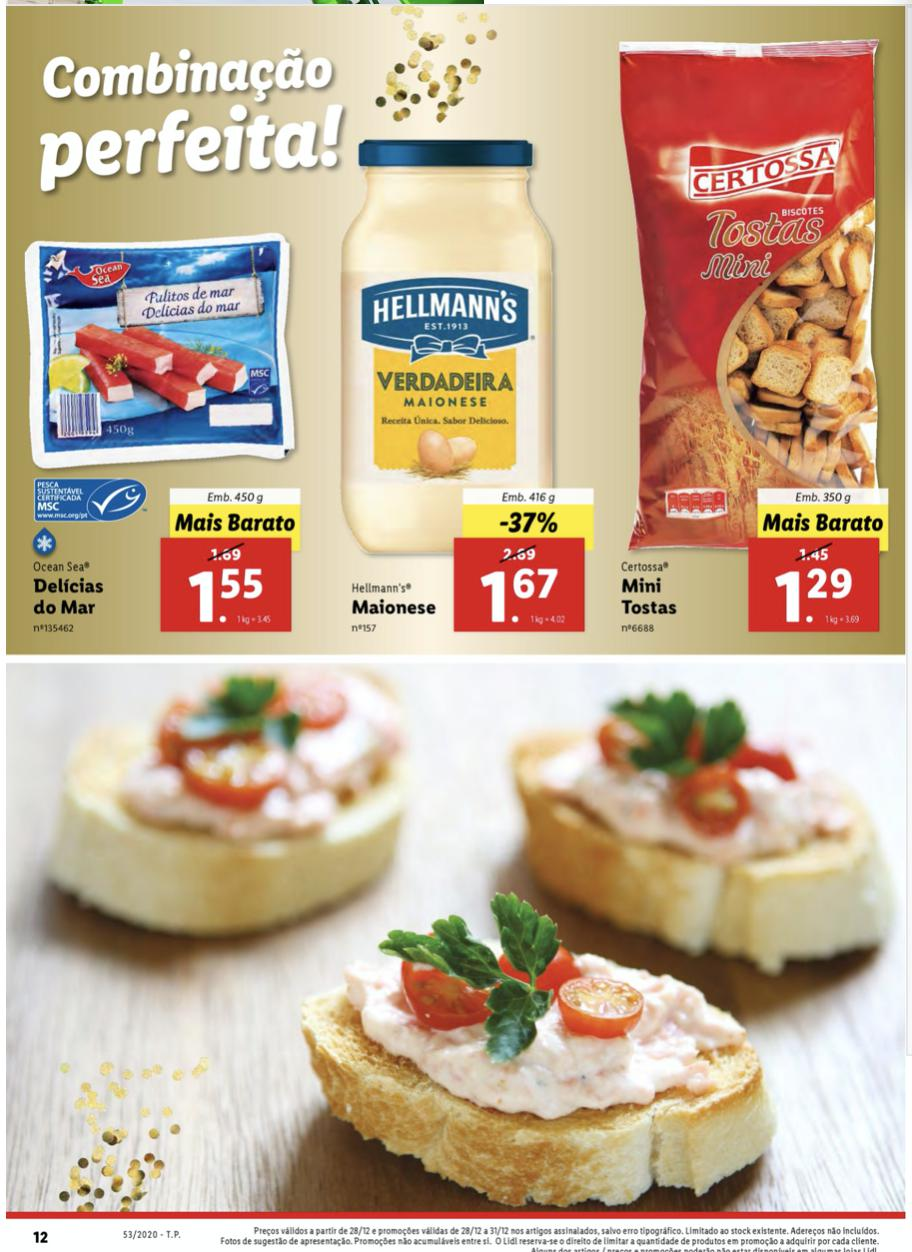name: (26, 573, 109, 623), (616, 573, 685, 620), (343, 592, 443, 619)
price: (451, 558, 588, 634), (746, 559, 882, 633), (162, 561, 296, 634)
product: (610, 9, 902, 647), (324, 109, 607, 644), (16, 222, 323, 644)
promotion: (490, 508, 565, 537)
